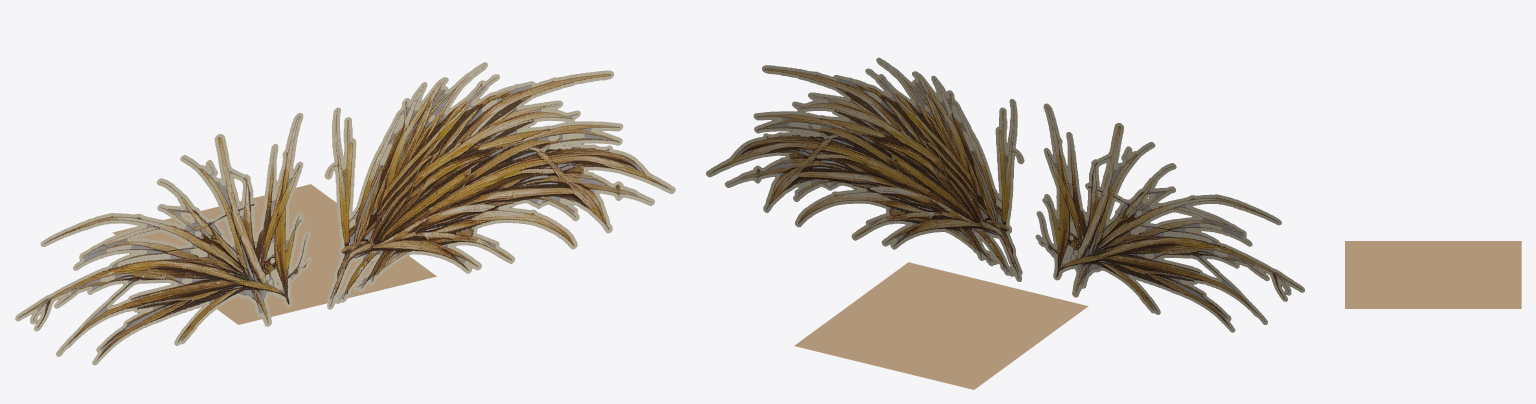
Rendered from toad-standee-wind-grass.glb.
3 views of the same model, side by side, from view 1: azimuth 30°, elevation 25°; view 2: azimuth 150°, elevation 25°; view 3: azimuth 270°, elevation 25° (orthographic). The views are drawn at different scales.
Visible parts, largest first — view 1: wind-grass; view 2: wind-grass; view 3: wind-grass.
Part boxes in pixels (bbox=[...]): wind-grass: bbox=[15, 62, 675, 365]; wind-grass: bbox=[706, 57, 1304, 389]; wind-grass: bbox=[1345, 241, 1521, 308].
Size of the model in its own units: 0.1 by 0.0309 by 0.035.
1 material, 1 textured.
